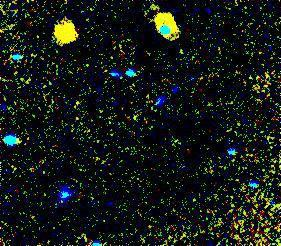star: (52, 20, 82, 50)
